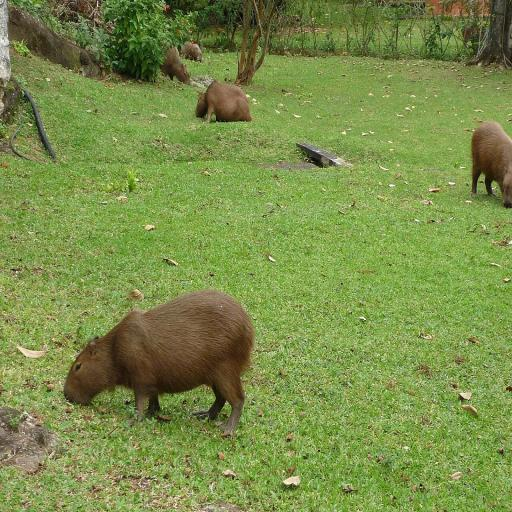capybara: (64, 290, 253, 433), (472, 122, 511, 207), (196, 80, 252, 123), (161, 47, 189, 84), (181, 42, 202, 61)
